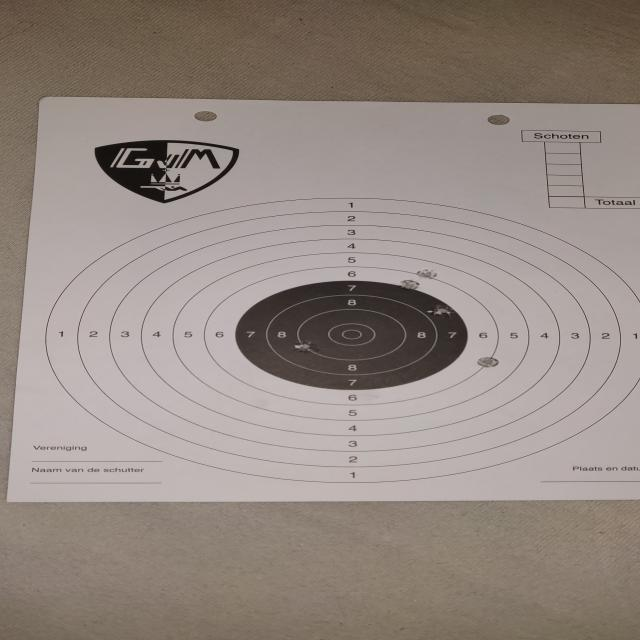6: (477, 354, 504, 371), (412, 267, 446, 280)
7: (425, 303, 458, 317), (398, 278, 422, 292)
9: (292, 340, 323, 355)
Target: (48, 197, 640, 483)
black_contour: (234, 279, 469, 390)
